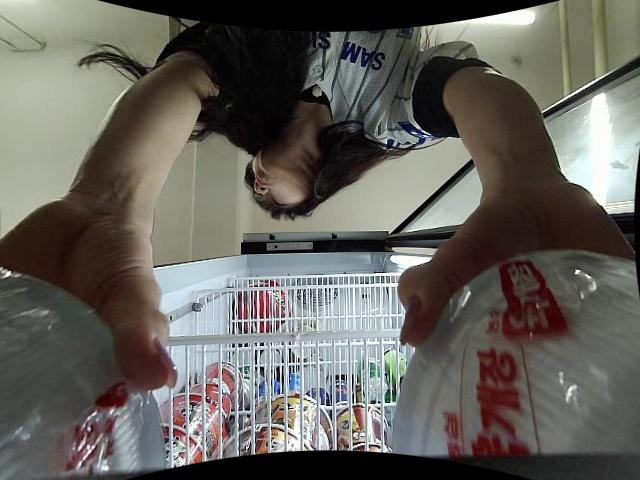00_hand: (392, 181, 640, 351), (0, 200, 182, 390)
09_yukGaeJang: (383, 245, 640, 480), (0, 263, 167, 480)
